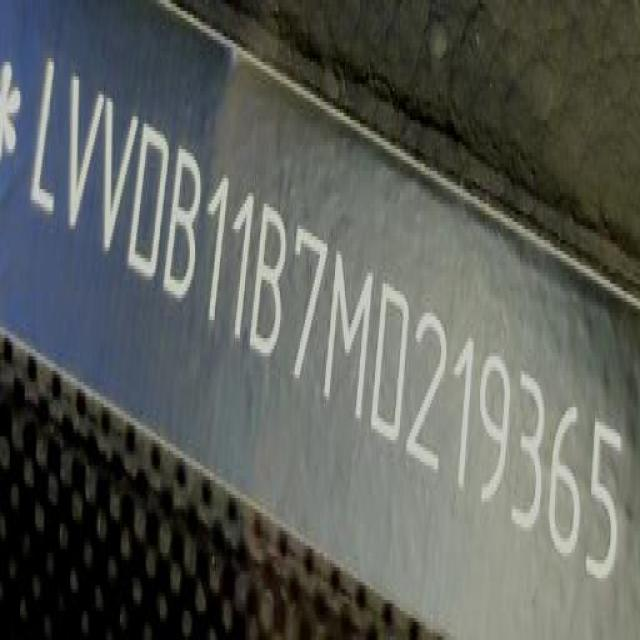1: (202, 160, 236, 341), (224, 181, 255, 354), (448, 325, 478, 501)
2: (408, 292, 451, 480)
3: (511, 359, 549, 545)
5: (586, 407, 630, 590)
6: (548, 390, 588, 569)
7: (288, 213, 334, 405)
9: (474, 341, 514, 518)
B: (164, 139, 209, 324), (250, 189, 293, 374)
D: (369, 266, 414, 457), (132, 114, 176, 291)
L: (26, 53, 72, 229)
M: (326, 239, 379, 432)
V: (97, 91, 144, 270), (62, 66, 108, 248)
